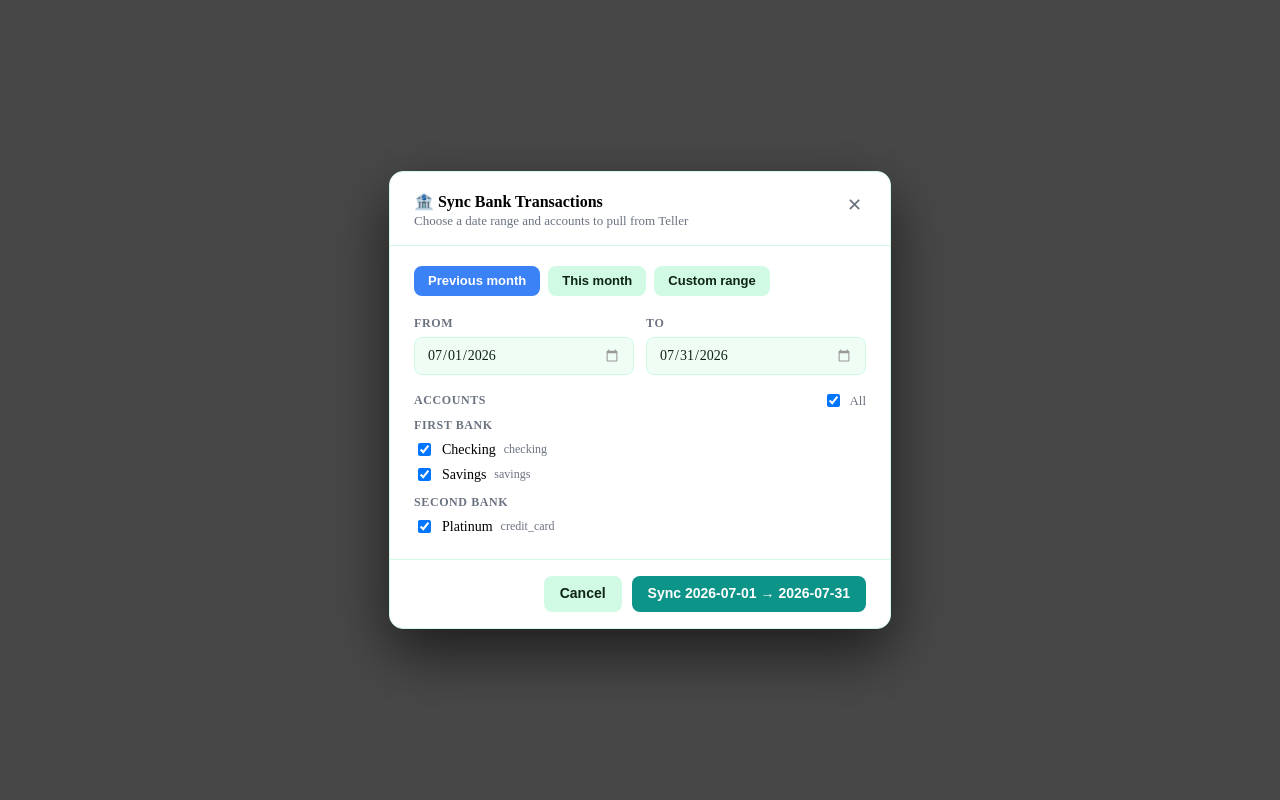
All checkbox unchecks all accounts
This screenshot has width=1280, height=800.
Check: the text "Checking" is shown, box left=442, top=442, right=496, bottom=458
Click the checkbox labelled "All" at (834, 401), box left=827, top=394, right=840, bottom=407
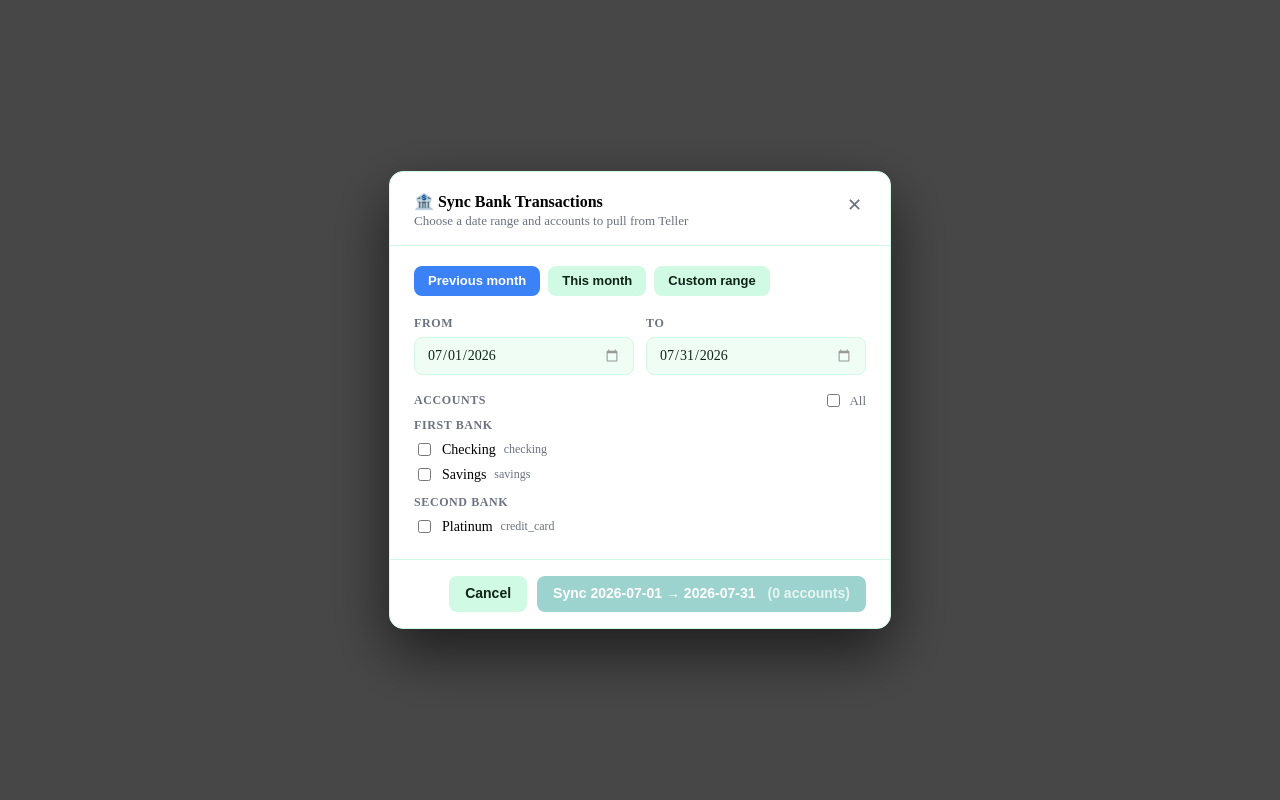
Check: the checkbox labelled "Checking checking" is not checked, box left=418, top=443, right=431, bottom=456
Check: the checkbox labelled "Savings savings" is not checked, box left=418, top=468, right=431, bottom=481
Check: the checkbox labelled "Platinum credit_card" is not checked, box left=418, top=520, right=431, bottom=533
